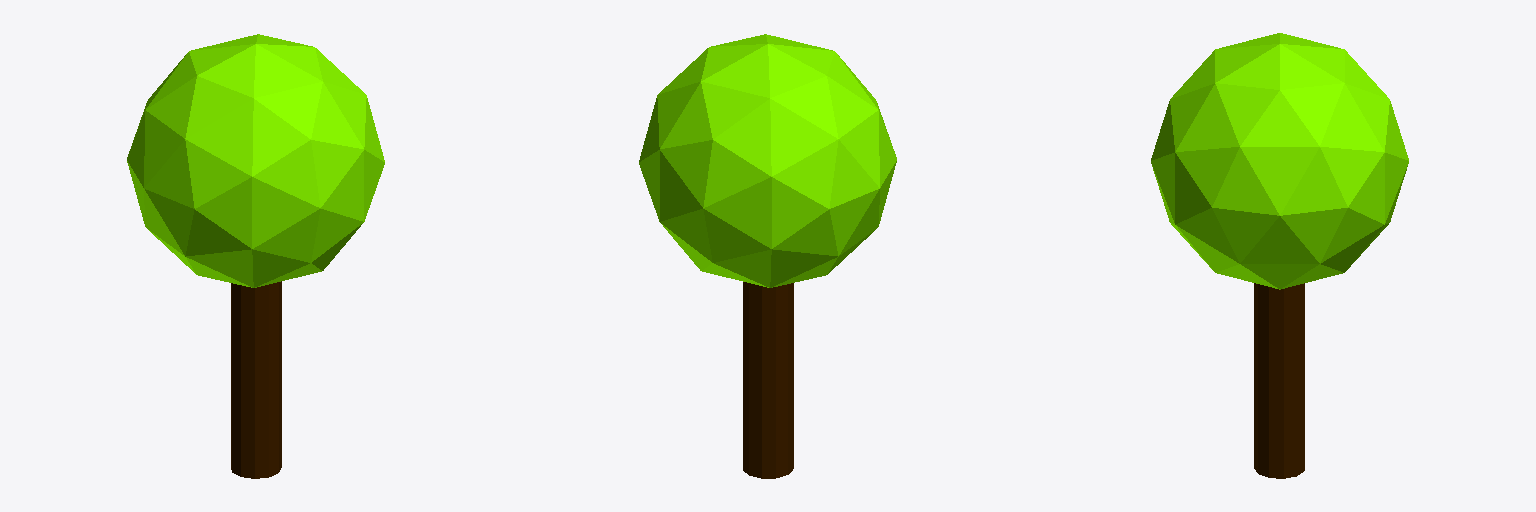
The model's file is tree.obj.
3 renders of one model, left to right at view 1: azimuth 30°, elevation 25°; view 2: azimuth 150°, elevation 25°; view 3: azimuth 270°, elevation 25°, orthographic.
Visible parts, largest first — view 1: Icosahedron, Cylinder; view 2: Icosahedron, Cylinder; view 3: Icosahedron, Cylinder.
Boxes of the visible parts, <box> form: Icosahedron: <box>127,34,384,287</box>; Cylinder: <box>231,281,281,478</box>; Icosahedron: <box>639,34,896,287</box>; Cylinder: <box>743,282,793,478</box>; Icosahedron: <box>1151,33,1408,289</box>; Cylinder: <box>1254,283,1304,478</box>.
Bounding box in the file's own units: 1 × 1.81 × 1.